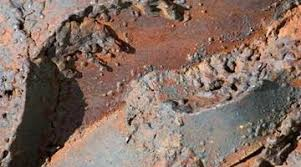rust: (25, 6, 268, 92), (25, 68, 137, 152), (211, 109, 299, 167)
